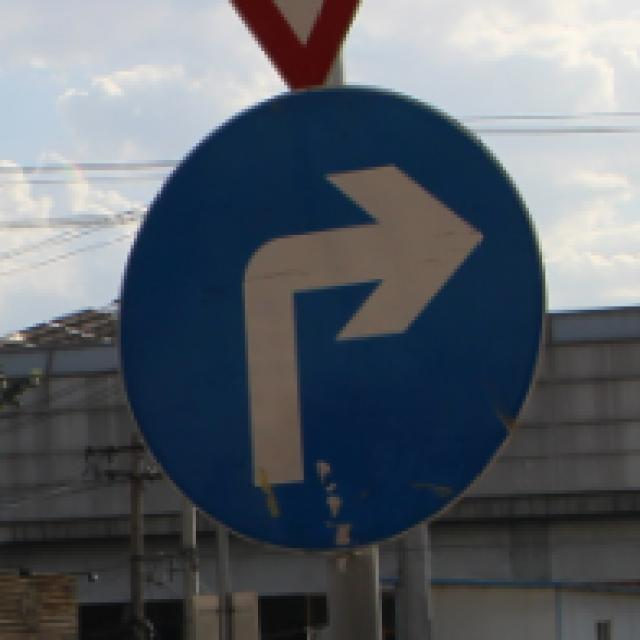Right: (122, 89, 550, 554)
